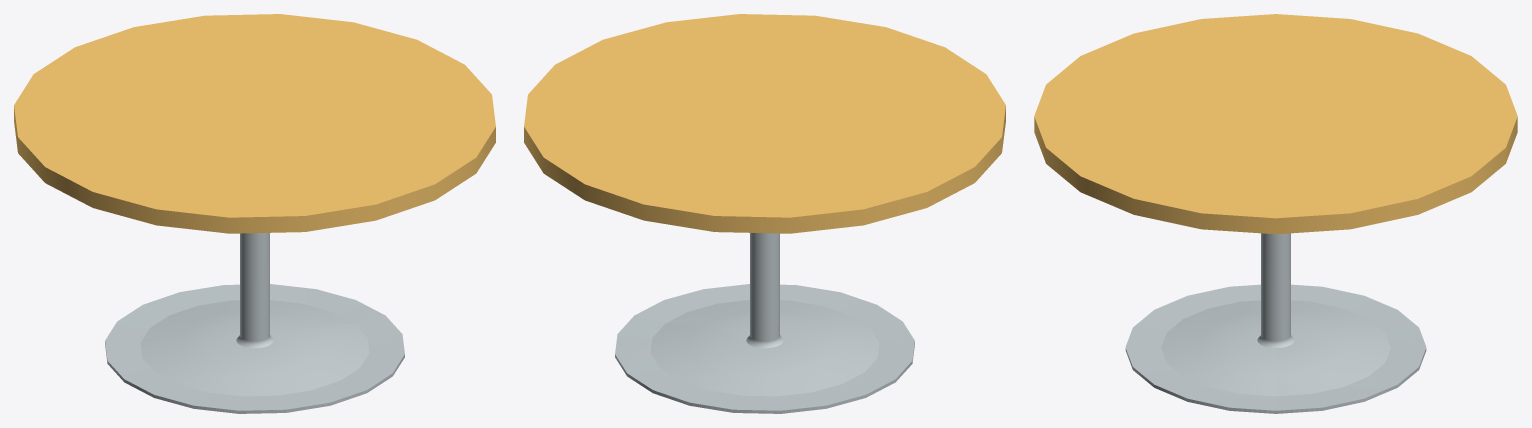
Rendered from Ronde Tafel.fbx.
3 renders of one model, left to right at view 1: azimuth 30°, elevation 25°; view 2: azimuth 150°, elevation 25°; view 3: azimuth 270°, elevation 25°, orthographic.
Parts seen in each view (by area): view 1: pCylinder1; view 2: pCylinder1; view 3: pCylinder1.
Part boxes in pixels (left/top/right/bottom): pCylinder1: left=14, top=14, right=495, bottom=413; pCylinder1: left=524, top=14, right=1005, bottom=413; pCylinder1: left=1034, top=14, right=1517, bottom=413.
Size of the model in its own units: 3.21 by 1.72 by 3.21.
Materials: 1 (1 with a texture image).
